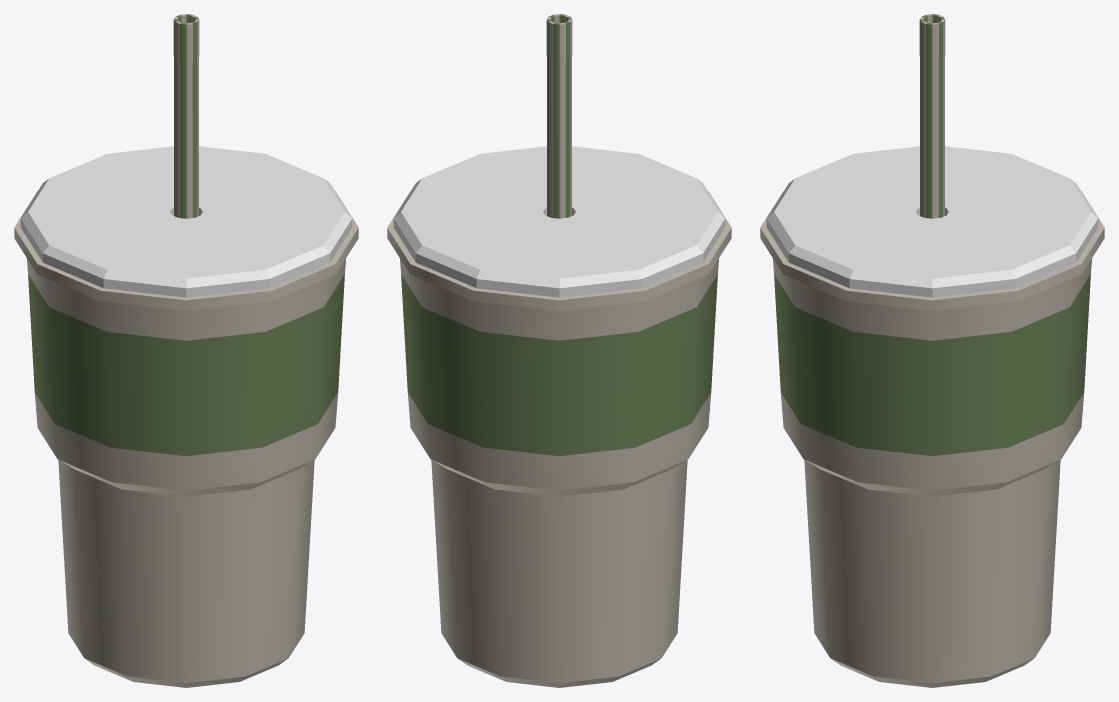
The model's file is LargeSoda_01.fbx.
The picture shows the model from 3 angles, left to right: view 1: azimuth 30°, elevation 25°; view 2: azimuth 150°, elevation 25°; view 3: azimuth 270°, elevation 25°; orthographic projection.
Visible parts, largest first — view 1: LargeSoda_01; view 2: LargeSoda_01; view 3: LargeSoda_01.
Boxes of the visible parts, box(x1,y1,x2,y2) form: LargeSoda_01: box(14, 14, 358, 687); LargeSoda_01: box(387, 14, 731, 687); LargeSoda_01: box(760, 14, 1104, 687).
Size of the model in its own units: 0.1635 by 0.3265 by 0.1635.
